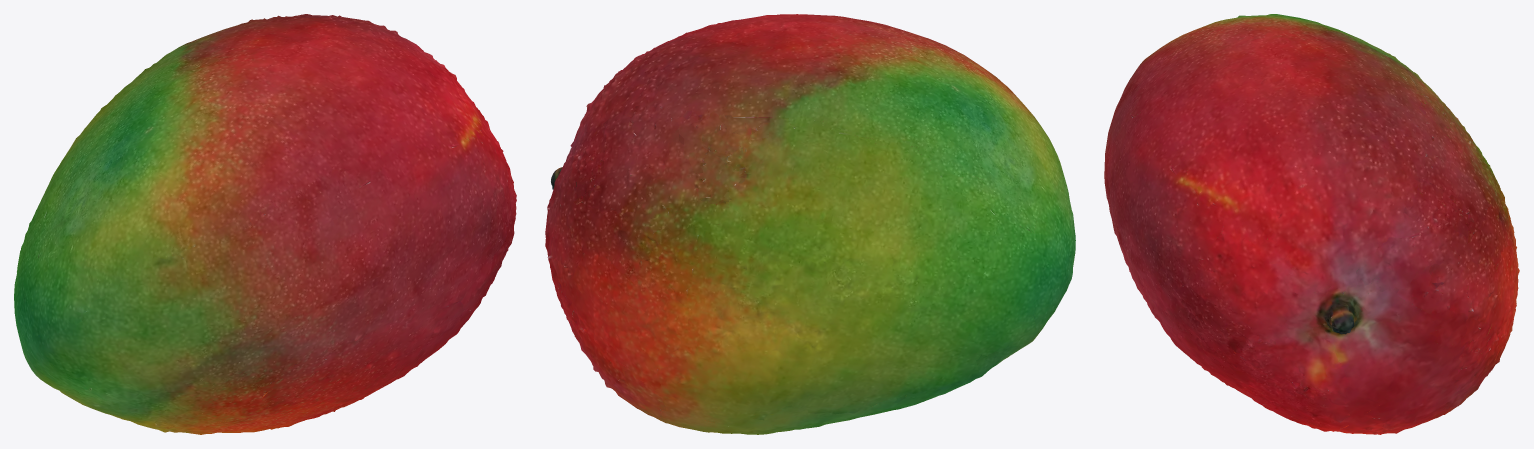
The model's file is mango-v1-transformed.glb.
3 renders of one model, left to right at view 1: azimuth 30°, elevation 25°; view 2: azimuth 150°, elevation 25°; view 3: azimuth 270°, elevation 25°, orthographic. The views are drawn at different scales.
Visible parts, largest first — view 1: mango; view 2: mango; view 3: mango.
Boxes of the visible parts, x1=… form: mango: x1=14, y1=14, x2=516, y2=434; mango: x1=545, y1=14, x2=1075, y2=434; mango: x1=1104, y1=14, x2=1519, y2=434.
Bounding box in the file's own units: 6.94 × 5.2 × 5.51.
1 material, 1 textured.
